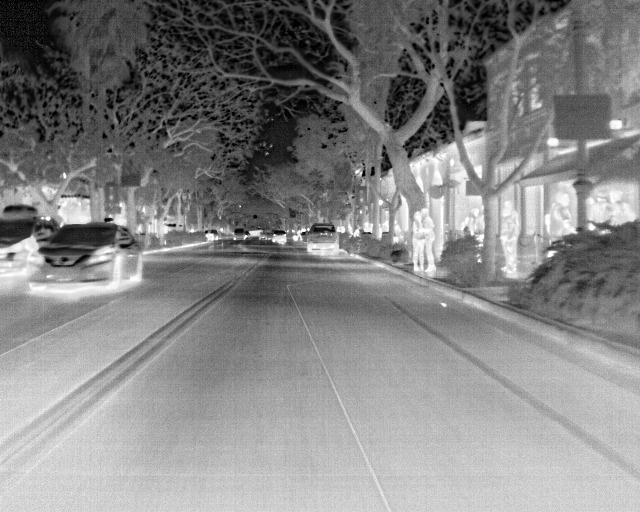bicycle: (24, 223, 143, 298), (0, 217, 55, 291), (303, 223, 341, 254), (230, 226, 248, 244), (271, 228, 288, 247)
empty: (497, 198, 524, 277), (545, 192, 573, 246), (419, 207, 439, 270), (410, 211, 425, 271), (458, 207, 480, 234)
